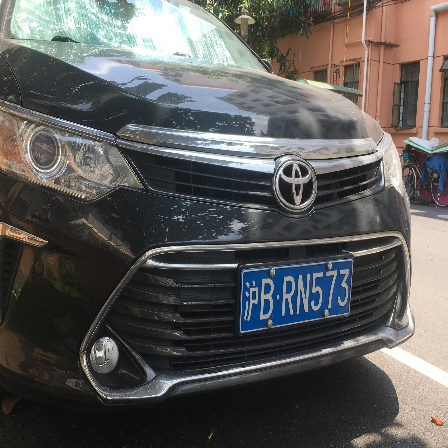plate: (242, 266, 355, 321)
